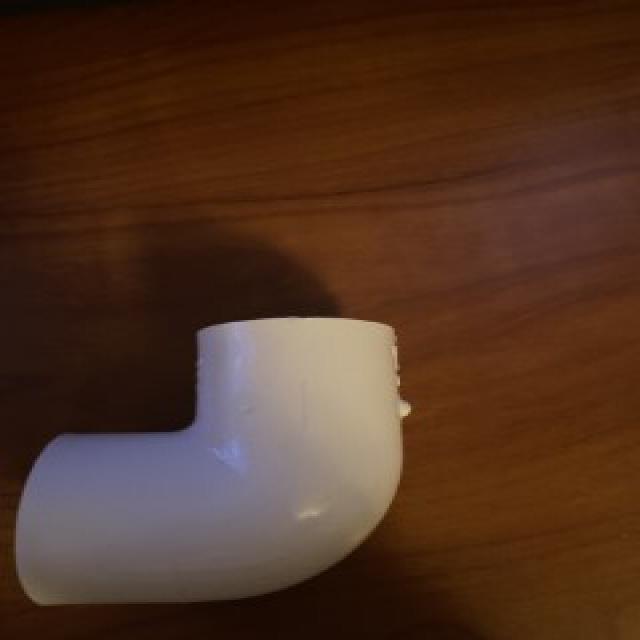L Joint: (13, 317, 411, 608)
